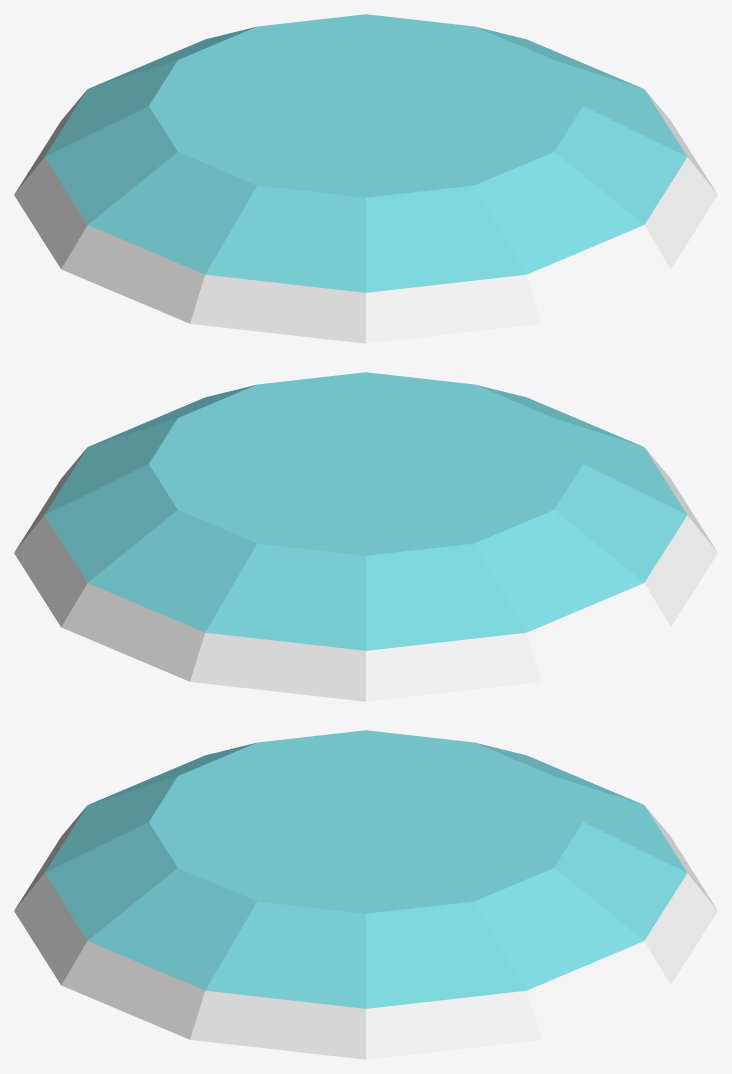
Rendered from WashingMachine_Door.fbx.
3 views of the same model, one above another, from view 1: azimuth 30°, elevation 25°; view 2: azimuth 150°, elevation 25°; view 3: azimuth 270°, elevation 25° (orthographic).
Parts seen in each view (by area): view 1: WashingMachine_Door; view 2: WashingMachine_Door; view 3: WashingMachine_Door.
Boxes of the visible parts, <box> form: WashingMachine_Door: <box>14,14,717,343</box>; WashingMachine_Door: <box>14,372,717,701</box>; WashingMachine_Door: <box>14,730,717,1059</box>.
Size of the model in its own units: 204 by 28.47 by 204.
